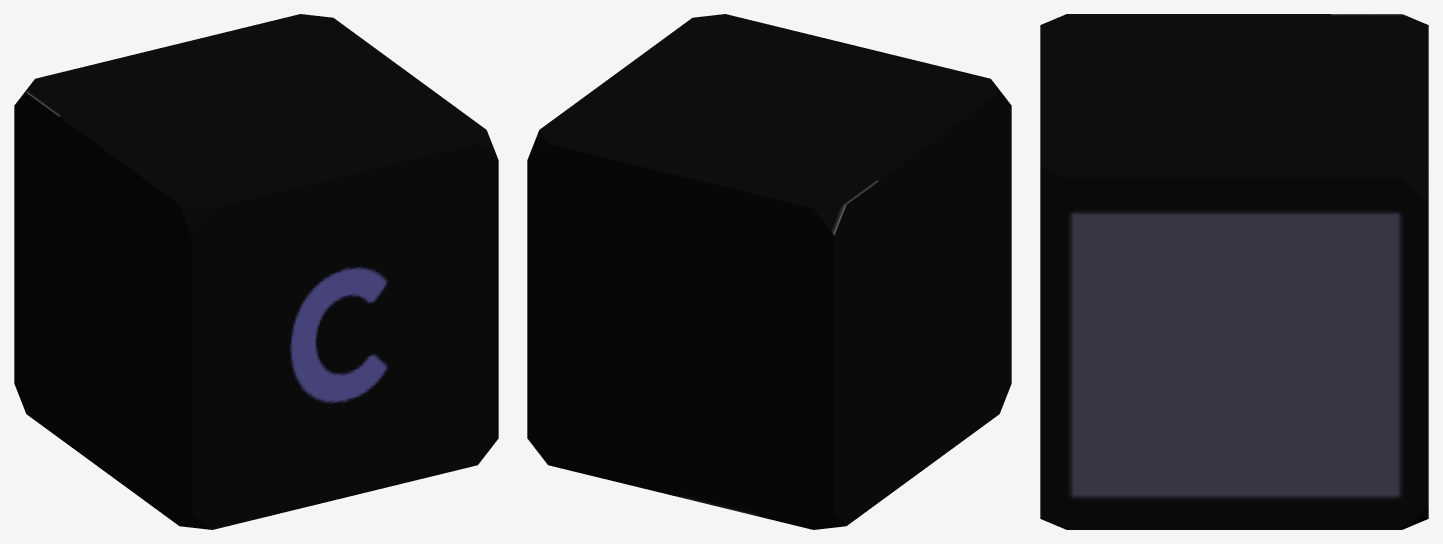
Rendered from Comingsoon.glb.
3 views of the same model, side by side, from view 1: azimuth 30°, elevation 25°; view 2: azimuth 150°, elevation 25°; view 3: azimuth 270°, elevation 25° (orthographic). The views are drawn at different scales.
Visible parts, largest first — view 1: Cube; view 2: Cube; view 3: Cube.
Boxes of the visible parts, <box> form: Cube: <box>14,14,498,529</box>; Cube: <box>527,14,1011,529</box>; Cube: <box>1040,14,1428,529</box>.
Bounding box in the file's own units: 1.4 × 1.4 × 1.4.
1 material, 1 textured.
